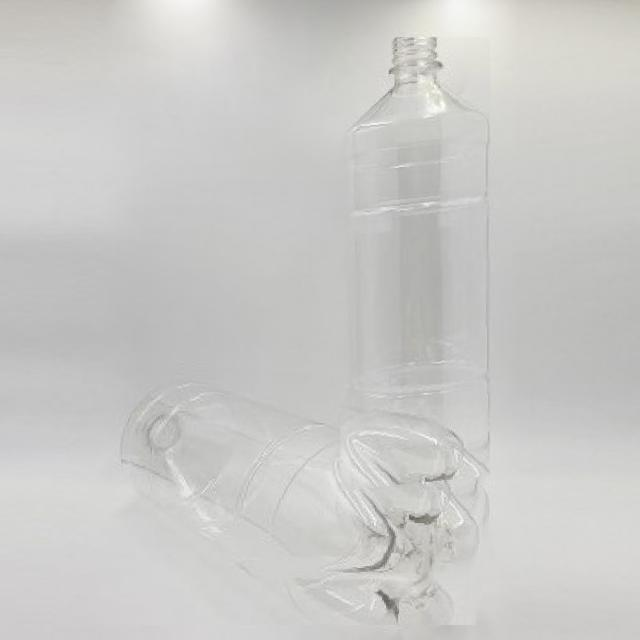plastic bottle: (52, 354, 492, 625), (334, 38, 490, 492)
